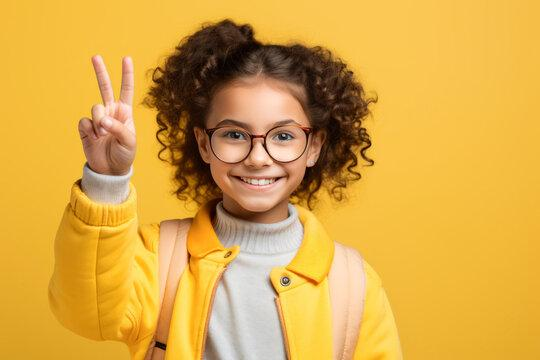peace_sign: (72, 50, 143, 180)
